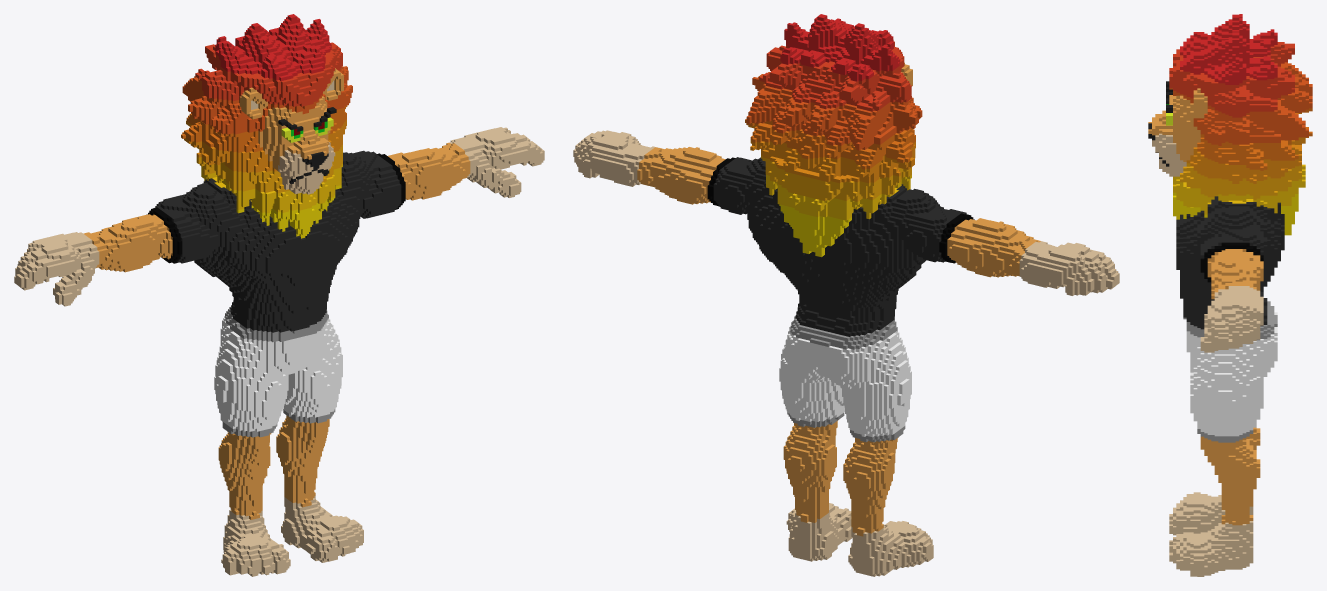
File: 1108-BPU3l1LI.glb
The picture shows the model from 3 angles, left to right: view 1: azimuth 30°, elevation 25°; view 2: azimuth 150°, elevation 25°; view 3: azimuth 270°, elevation 25°; orthographic projection. The views are drawn at different scales.
Parts seen in each view (by area): view 1: sad; view 2: sad; view 3: sad.
Boxes of the visible parts, box(x1,y1,x2,y2) form: sad: box(14, 14, 544, 576); sad: box(573, 14, 1119, 576); sad: box(1148, 14, 1312, 576).
Bounding box in the file's own units: 17.2 × 16.5 × 4.7.
Materials: 5 (5 with a texture image).
